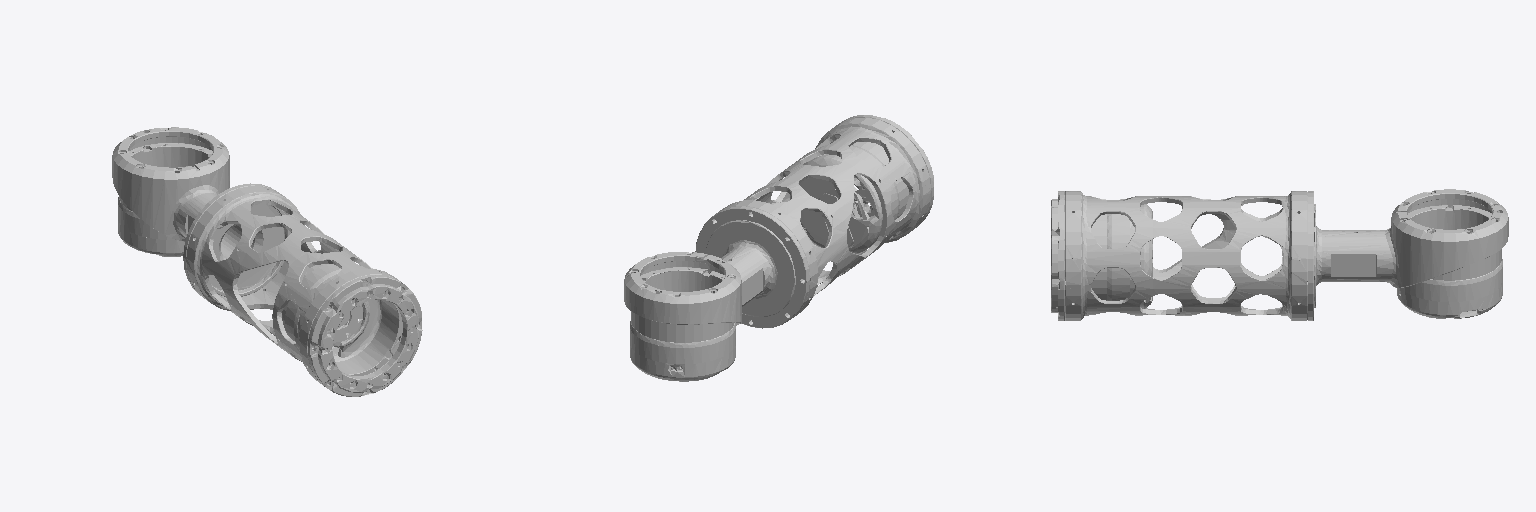
File: left_upper_arm_yaw_link.obj
The picture shows the model from 3 angles: view 1: azimuth 30°, elevation 25°; view 2: azimuth 150°, elevation 25°; view 3: azimuth 270°, elevation 25°; orthographic projection.
Parts seen in each view (by area): view 1: left_upper_arm_yaw_link; view 2: left_upper_arm_yaw_link; view 3: left_upper_arm_yaw_link.
Part boxes in pixels (bbox=[...]): left_upper_arm_yaw_link: bbox=[112, 127, 422, 396]; left_upper_arm_yaw_link: bbox=[624, 115, 933, 381]; left_upper_arm_yaw_link: bbox=[1051, 189, 1508, 320].
Bounding box in the file's own units: 0.062 × 0.062 × 0.2185.